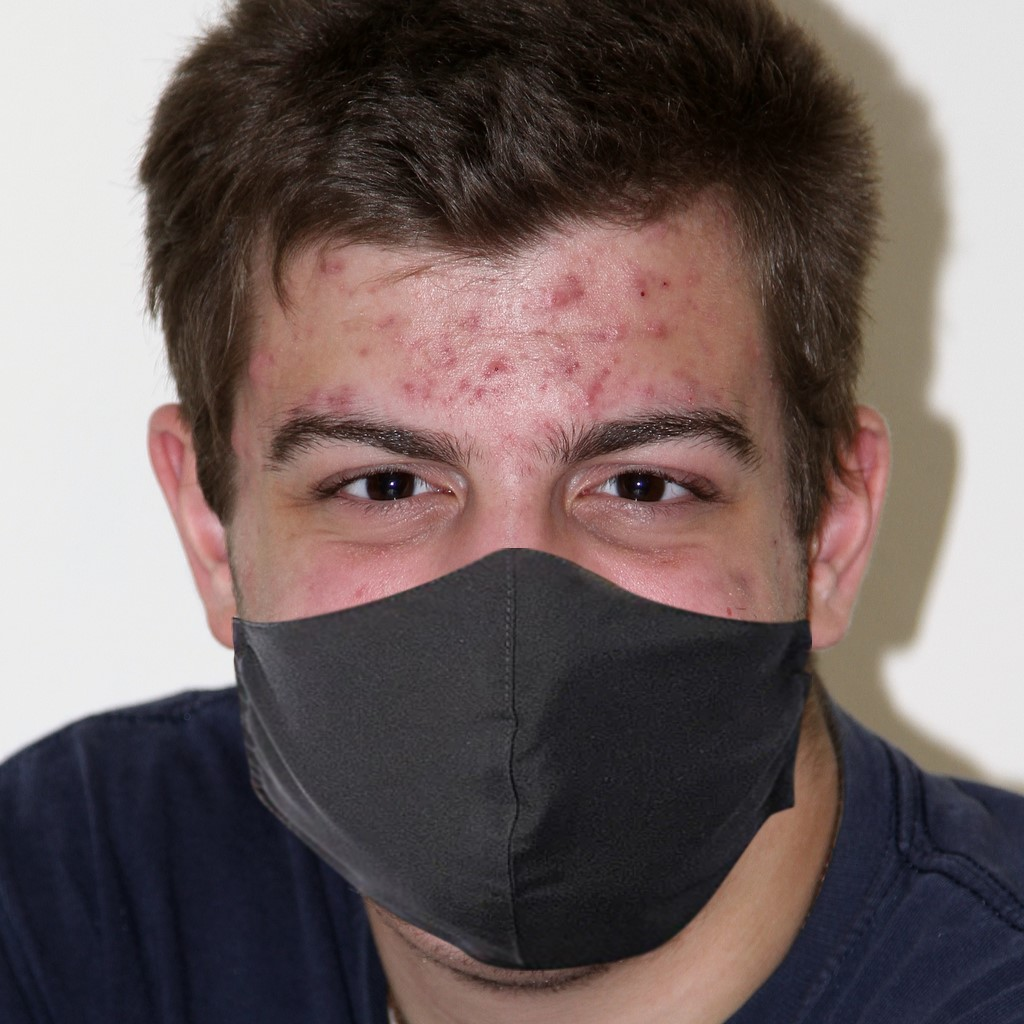con_mascara: (187, 149, 893, 968)
